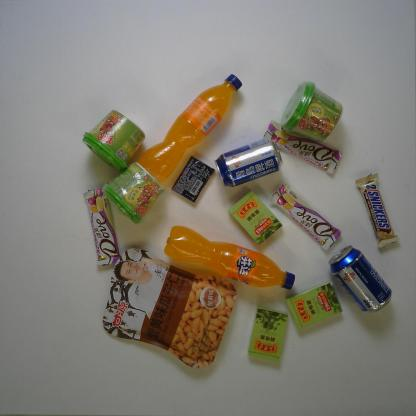Alcohol: (328, 244, 393, 314), (214, 136, 284, 188)
Candy: (228, 188, 284, 246), (284, 280, 344, 330), (247, 306, 290, 362)
Chocolate: (270, 181, 343, 252), (262, 119, 344, 174), (355, 172, 401, 250), (83, 187, 121, 266)
Dried Fruit: (101, 246, 238, 369)
Drink: (138, 72, 243, 184), (163, 225, 297, 291)
Gum: (170, 155, 216, 204)
Instant Drink: (100, 162, 166, 226), (81, 108, 147, 172), (280, 80, 344, 143)
